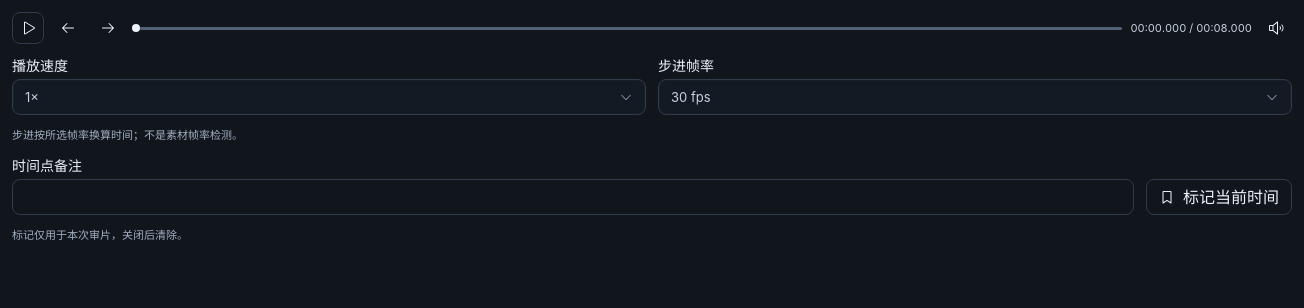
Test: VideoReviewControls › holds time notes only in this review and supports jumping/removing
Type "检查口型" into the field labelled "时间点备注" at (573, 197), box [12,179,1134,215]
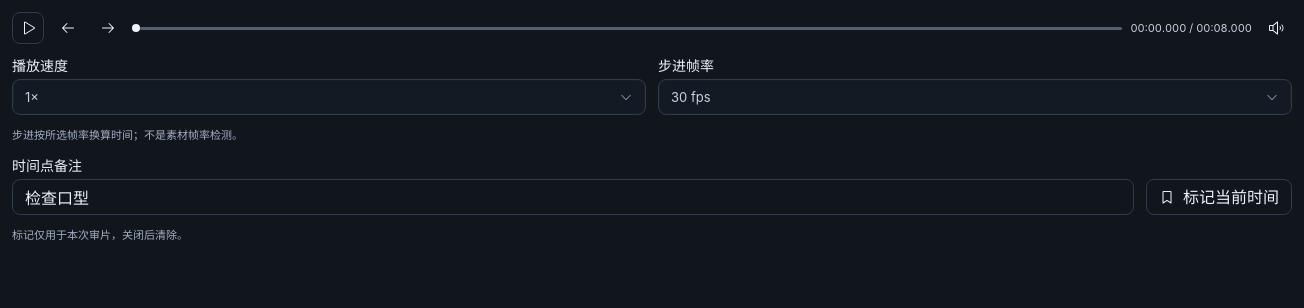
Click the button "标记当前时间" at (1219, 197), box [1146,179,1292,215]
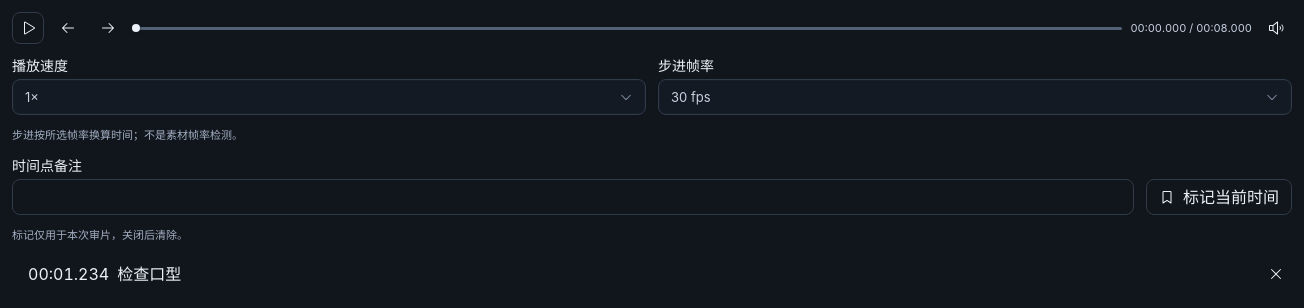
Click the button "00:01.234 检查口型" at (69, 274), box [12,256,1252,292]
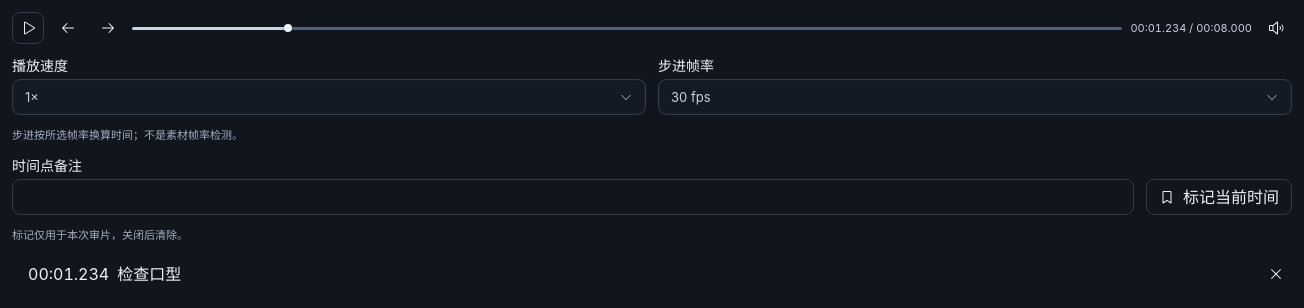
Click the button named "移除 00:01.234 的标记" at (1276, 274), box [1260,258,1292,290]
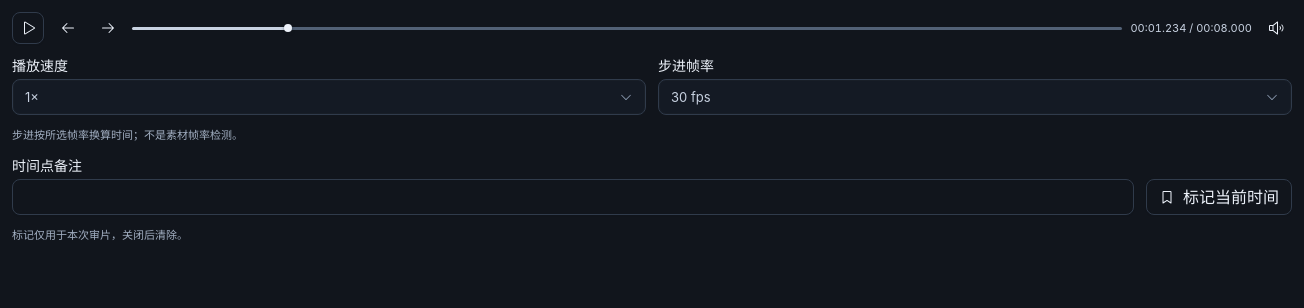
Expected: the text "标记仅用于本次审片，关闭后清除。" is shown, [12,228,188,242]
Expected: the button "检查口型" is gone
